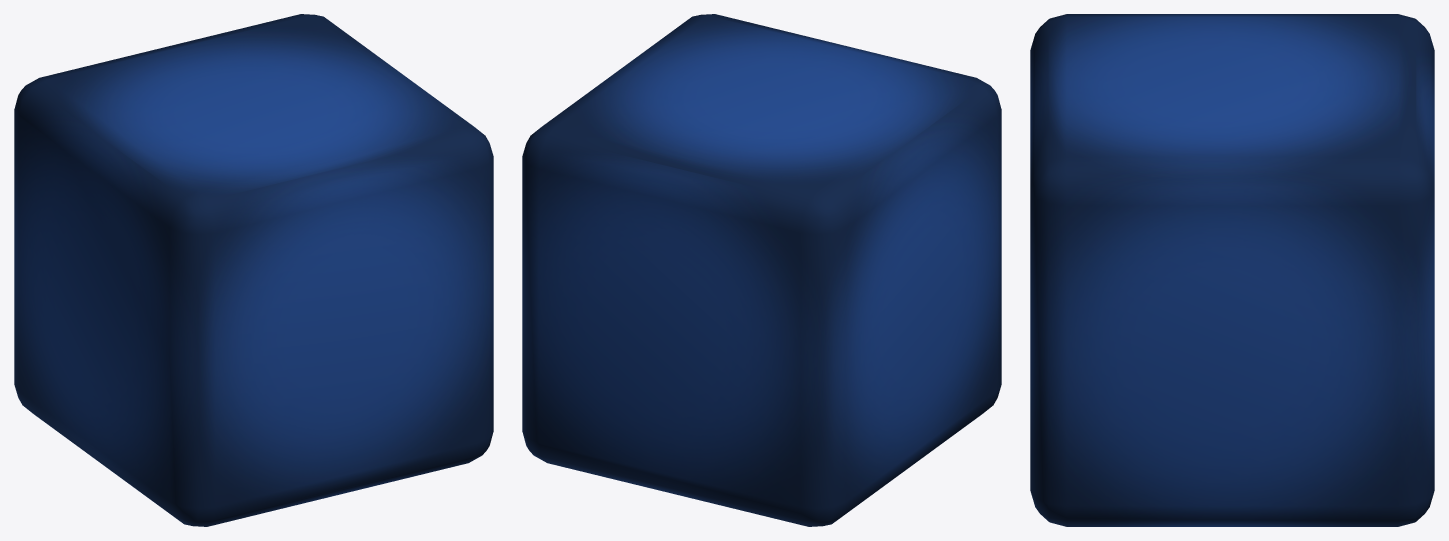
Rendered from floor_bomberman.glb.
3 views of the same model, side by side, from view 1: azimuth 30°, elevation 25°; view 2: azimuth 150°, elevation 25°; view 3: azimuth 270°, elevation 25° (orthographic). The views are drawn at different scales.
Parts seen in each view (by area): view 1: Cube; view 2: Cube; view 3: Cube.
Boxes of the visible parts, left/top/right/bottom form: Cube: left=14, top=14, right=493, bottom=526; Cube: left=522, top=14, right=1001, bottom=526; Cube: left=1030, top=14, right=1434, bottom=526.
Bounding box in the file's own units: 1 × 1 × 1.
1 material, 1 textured.
